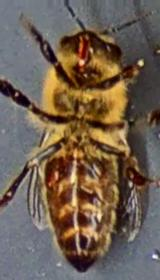varroa_mite: (38, 166, 64, 198)
